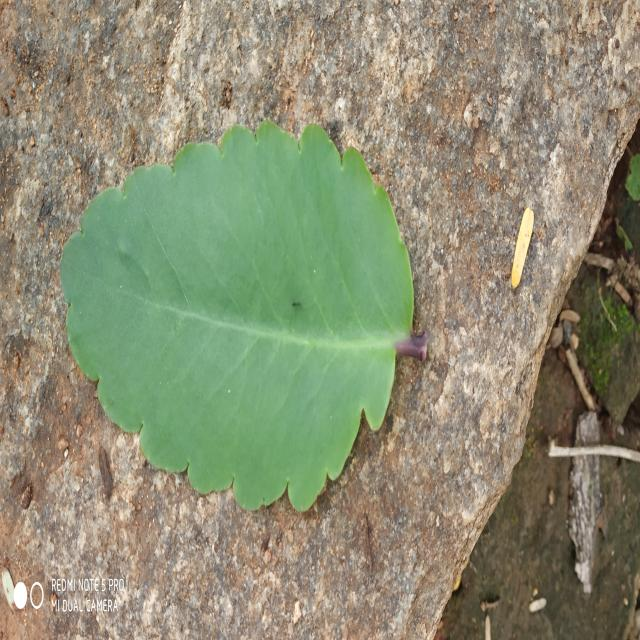spinach: (60, 122, 428, 510)
